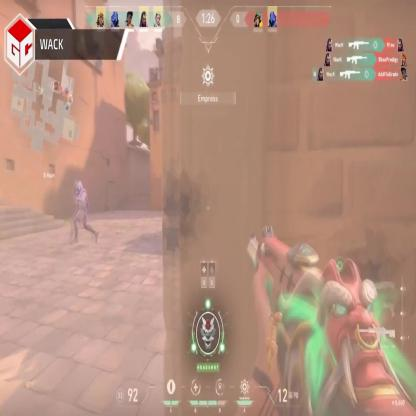enemy: (72, 180, 100, 244)
enemy_head: (77, 182, 83, 194)
